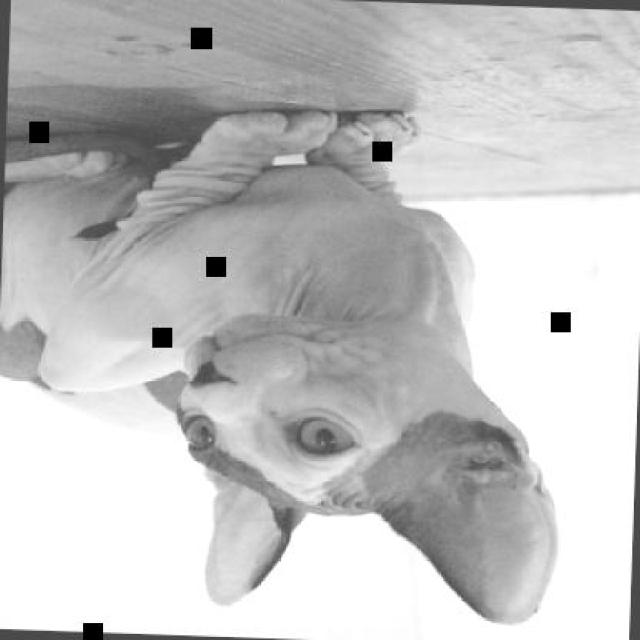cat: (0, 95, 575, 630)
